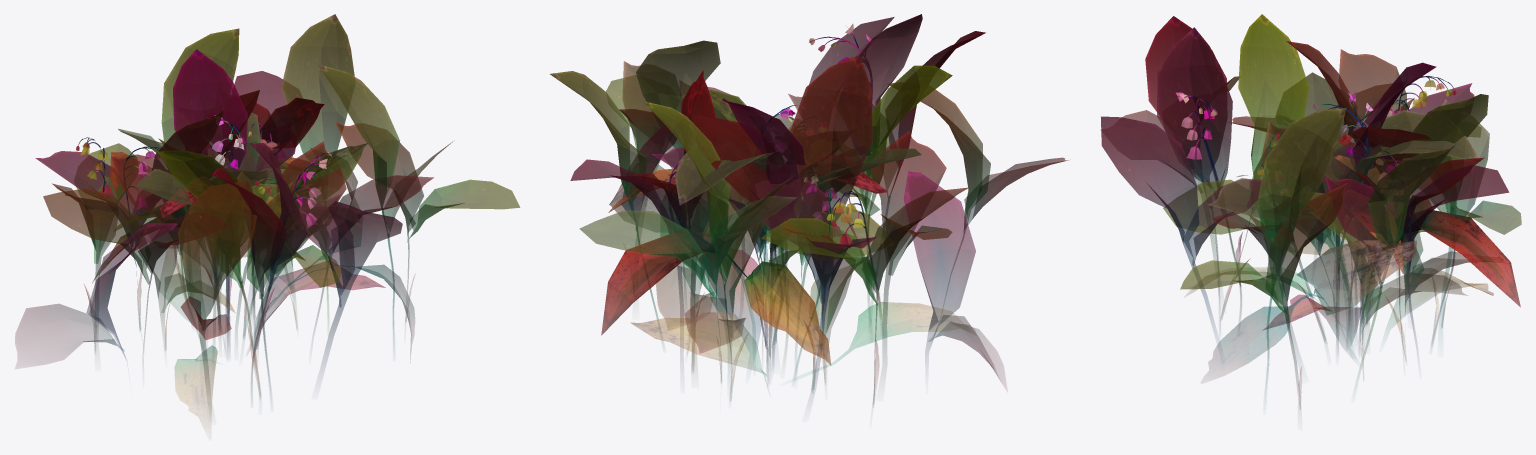
File: xikkdhjja_tier_2.gltf
The picture shows the model from 3 angles, left to right: view 1: azimuth 30°, elevation 25°; view 2: azimuth 150°, elevation 25°; view 3: azimuth 270°, elevation 25°; orthographic projection. The views are drawn at different scales.
Parts seen in each view (by area): view 1: SM_xikkdhjja_VarC, SM_xikkdhjja_VarD, SM_xikkdhjja_VarB, SM_xikkdhjja_VarE, SM_xikkdhjja_VarG, SM_xikkdhjja_VarH, SM_xikkdhjja_VarA, SM_xikkdhjja_VarF; view 2: SM_xikkdhjja_VarC, SM_xikkdhjja_VarD, SM_xikkdhjja_VarB, SM_xikkdhjja_VarG, SM_xikkdhjja_VarE, SM_xikkdhjja_VarH, SM_xikkdhjja_VarF, SM_xikkdhjja_VarA; view 3: SM_xikkdhjja_VarC, SM_xikkdhjja_VarD, SM_xikkdhjja_VarB, SM_xikkdhjja_VarE, SM_xikkdhjja_VarG, SM_xikkdhjja_VarF, SM_xikkdhjja_VarH, SM_xikkdhjja_VarA.
Part boxes in pixels (<box>): SM_xikkdhjja_VarC: <box>15,28,454,398</box>; SM_xikkdhjja_VarD: <box>43,14,519,392</box>; SM_xikkdhjja_VarB: <box>35,97,346,348</box>; SM_xikkdhjja_VarE: <box>113,90,414,359</box>; SM_xikkdhjja_VarG: <box>92,217,385,424</box>; SM_xikkdhjja_VarH: <box>160,157,309,337</box>; SM_xikkdhjja_VarA: <box>173,115,295,323</box>; SM_xikkdhjja_VarF: <box>185,112,261,184</box>; SM_xikkdhjja_VarC: <box>570,14,1068,406</box>; SM_xikkdhjja_VarD: <box>550,17,985,383</box>; SM_xikkdhjja_VarB: <box>631,70,921,393</box>; SM_xikkdhjja_VarG: <box>601,228,969,366</box>; SM_xikkdhjja_VarE: <box>609,86,887,358</box>; SM_xikkdhjja_VarH: <box>608,155,887,386</box>; SM_xikkdhjja_VarF: <box>675,144,838,350</box>; SM_xikkdhjja_VarA: <box>652,105,856,349</box>; SM_xikkdhjja_VarC: <box>1101,14,1509,387</box>; SM_xikkdhjja_VarD: <box>1101,16,1521,409</box>; SM_xikkdhjja_VarB: <box>1163,72,1484,360</box>; SM_xikkdhjja_VarE: <box>1204,121,1429,379</box>; SM_xikkdhjja_VarG: <box>1185,195,1520,353</box>; SM_xikkdhjja_VarF: <box>1323,110,1480,306</box>; SM_xikkdhjja_VarH: <box>1323,133,1493,339</box>; SM_xikkdhjja_VarA: <box>1312,91,1407,323</box>.
Size of what is drawn, in the model's own units: 0.633 by 0.4256 by 0.5216.
Materials: 1 (1 with a texture image).
